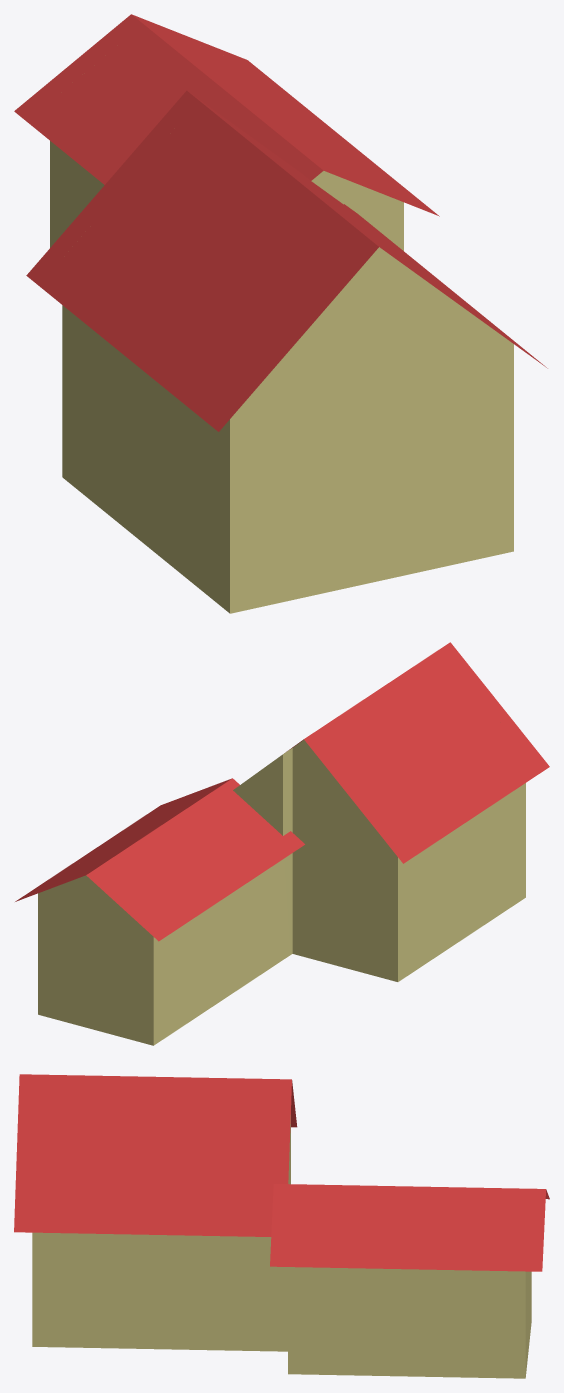
3 renders of one model, top to bottom at view 1: azimuth 30°, elevation 25°; view 2: azimuth 150°, elevation 25°; view 3: azimuth 270°, elevation 25°, orthographic. The views are drawn at different scales.
Bounding box in the file's own units: 13.78 × 23.04 × 10.74.
